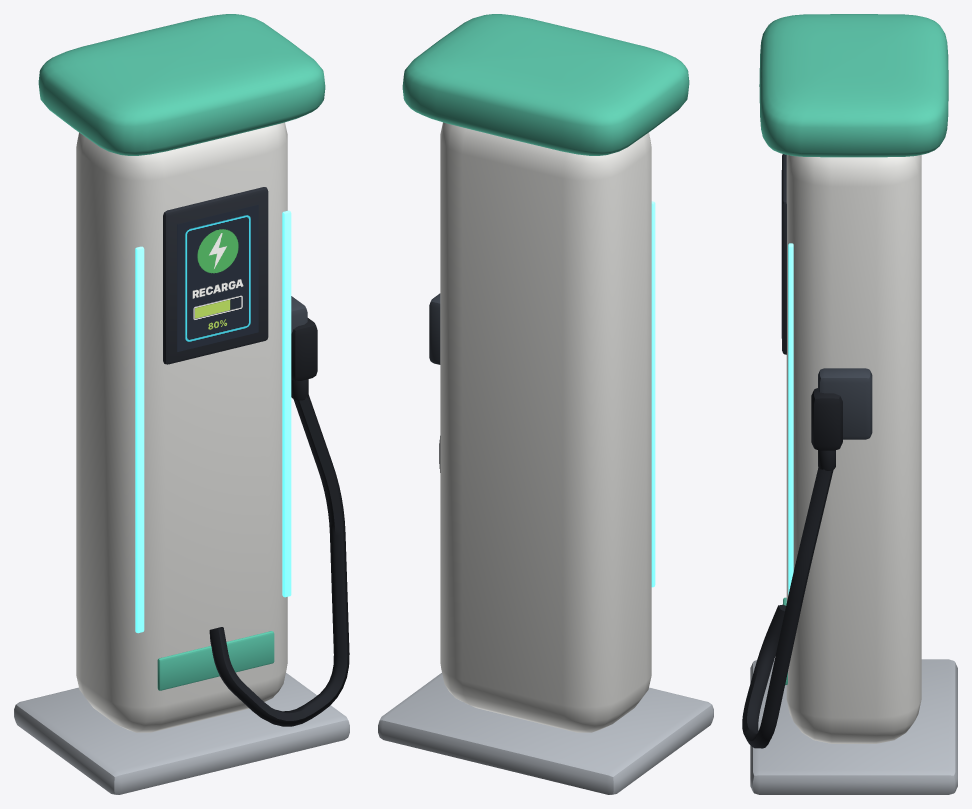
File: carregador_carro_eletrico.glb
The picture shows the model from 3 angles, left to right: view 1: azimuth 30°, elevation 25°; view 2: azimuth 150°, elevation 25°; view 3: azimuth 270°, elevation 25°; orthographic projection.
Parts seen in each view (by area): view 1: carregador_carro_eletrico; view 2: carregador_carro_eletrico; view 3: carregador_carro_eletrico.
Boxes of the visible parts, x1,y1,x2,y2 form: carregador_carro_eletrico: [14, 14, 349, 794]; carregador_carro_eletrico: [378, 14, 713, 794]; carregador_carro_eletrico: [742, 14, 957, 794].
Bounding box in the file's own units: 0.653 × 1.67 × 0.4784.
3 materials, 2 textured.
